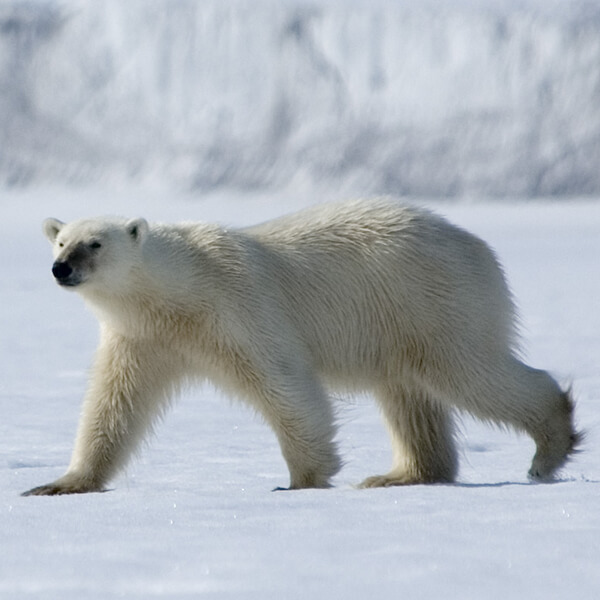Polar Bear: (24, 178, 592, 514)
